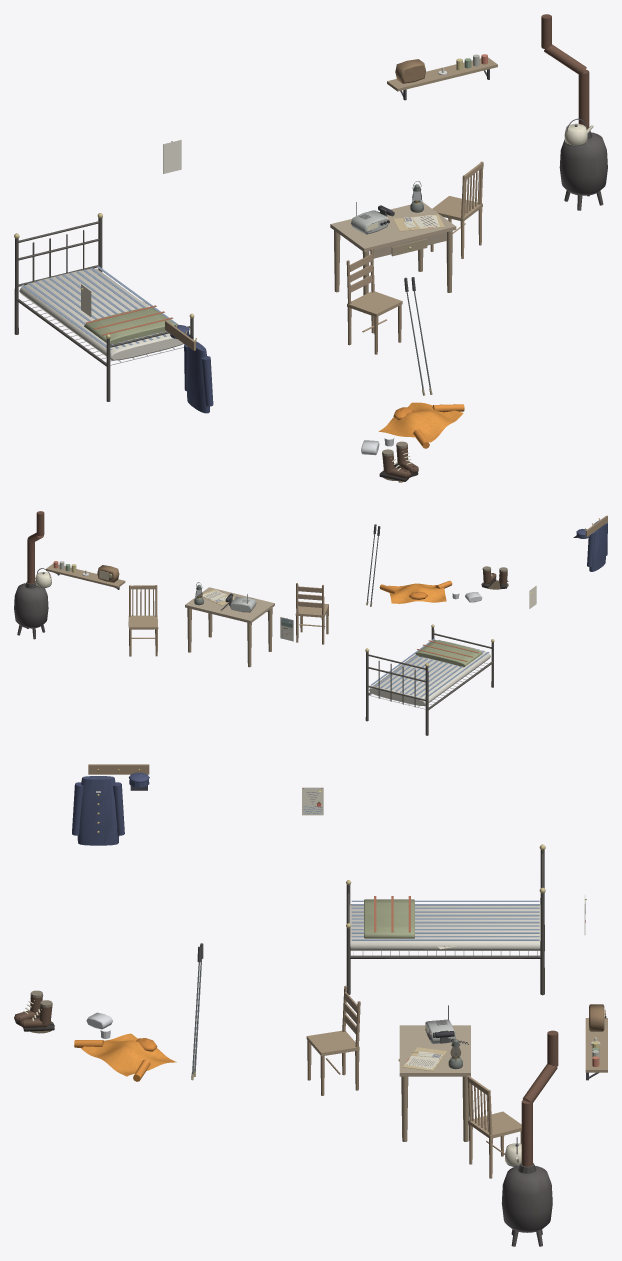
File: cabin_interior_set_a.glb
3 views of the same model, one above another, from view 1: azimuth 30°, elevation 25°; view 2: azimuth 150°, elevation 25°; view 3: azimuth 270°, elevation 25° (orthographic). The views are drawn at different scales.
Visible parts, largest first — view 1: body; view 2: body; view 3: body.
Boxes of the visible parts, left/top/right/bottom form: body: left=14, top=14, right=607, bottom=482; body: left=14, top=511, right=607, bottom=735; body: left=14, top=764, right=607, bottom=1246.
Size of the model in its own units: 7.43 by 2.1 by 5.82.
